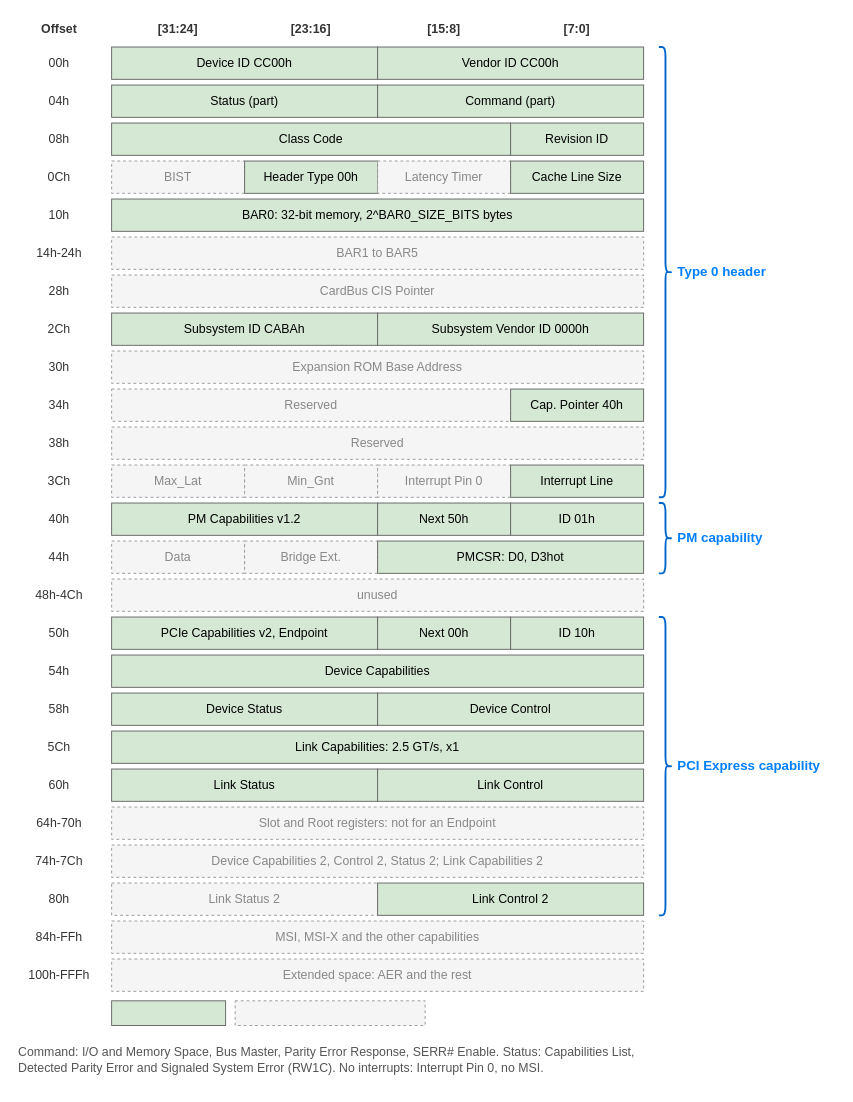
The diagram is 853 pixels wide and 1102 high, and some of its shapes have lost their labels. Here are the shapes that lost their labels. From the top down, the centre of each, then its label:
[168,1013]: implemented
[329,1013]: not implemented: reads 0
